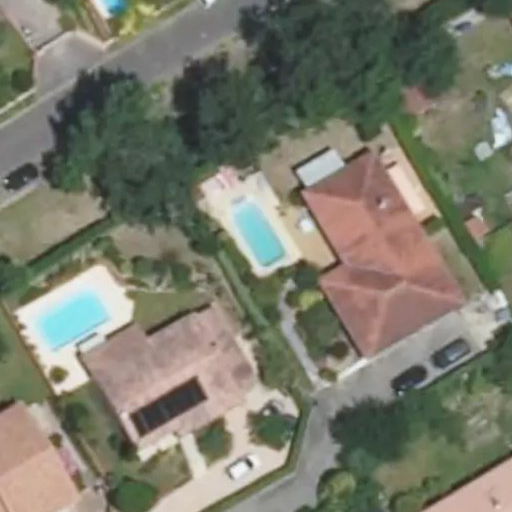pool: (35, 287, 111, 351), (234, 201, 285, 267)
